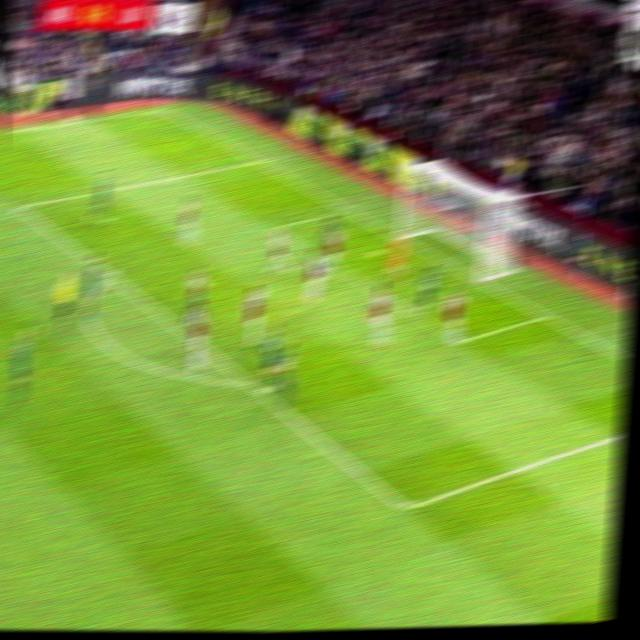bigarea_bottom_inner: (396, 501, 413, 517)
bigarea_top_inner: (12, 201, 26, 212)
bigarea_top_outter: (249, 157, 264, 166)
bottom_arc_area_intersection: (241, 377, 254, 388)
corner: (154, 105, 172, 115)
smallarea_bottom_outter: (535, 308, 553, 324)
smallarea_top_inner: (267, 224, 278, 233)
smallarea_top_outter: (341, 206, 353, 218)
top_arc_area_intersection: (104, 271, 117, 281)
